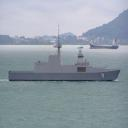Fragata: (8, 22, 123, 83)
